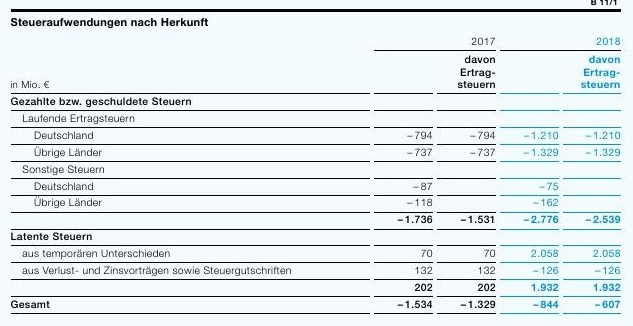table: (0, 0, 633, 326)
